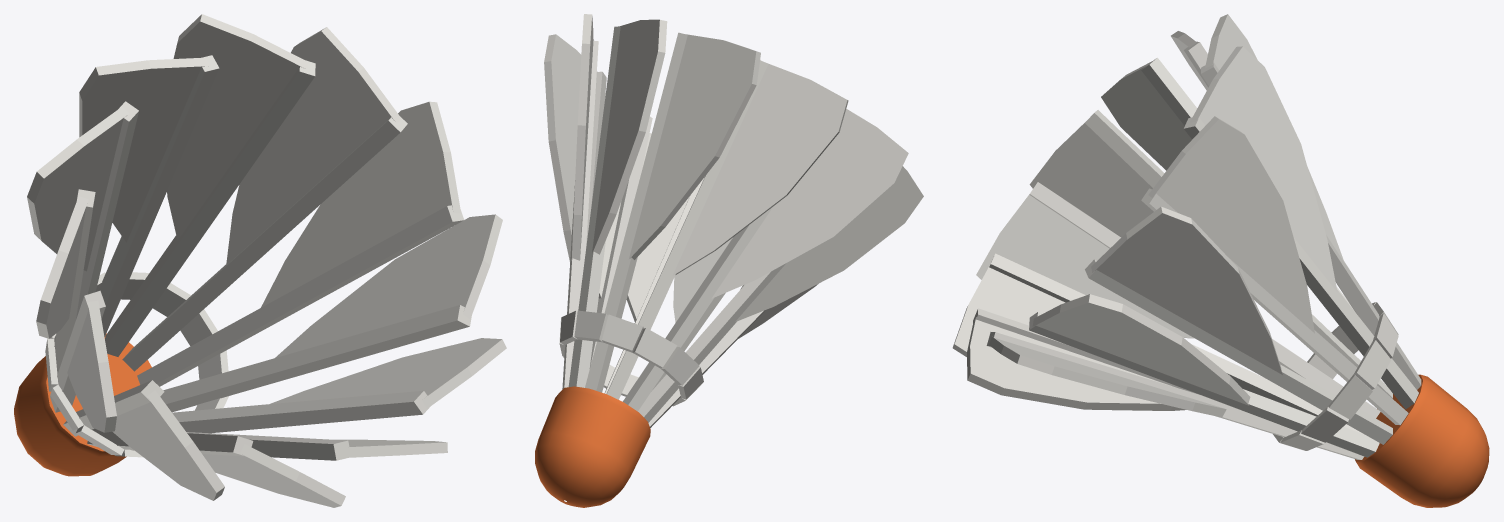
File: kc-shuttlecocks-tipped.glb
3 renders of one model, left to right at view 1: azimuth 30°, elevation 25°; view 2: azimuth 150°, elevation 25°; view 3: azimuth 270°, elevation 25°, orthographic. The views are drawn at different scales.
Visible parts, largest first — view 1: Shuttlecocks (tipped); view 2: Shuttlecocks (tipped); view 3: Shuttlecocks (tipped).
Part boxes in pixels (<box>): Shuttlecocks (tipped): <box>14,14,506,507</box>; Shuttlecocks (tipped): <box>535,14,923,507</box>; Shuttlecocks (tipped): <box>952,14,1489,507</box>.
Bounding box in the file's own units: 4.89 × 5.52 × 5.81.
